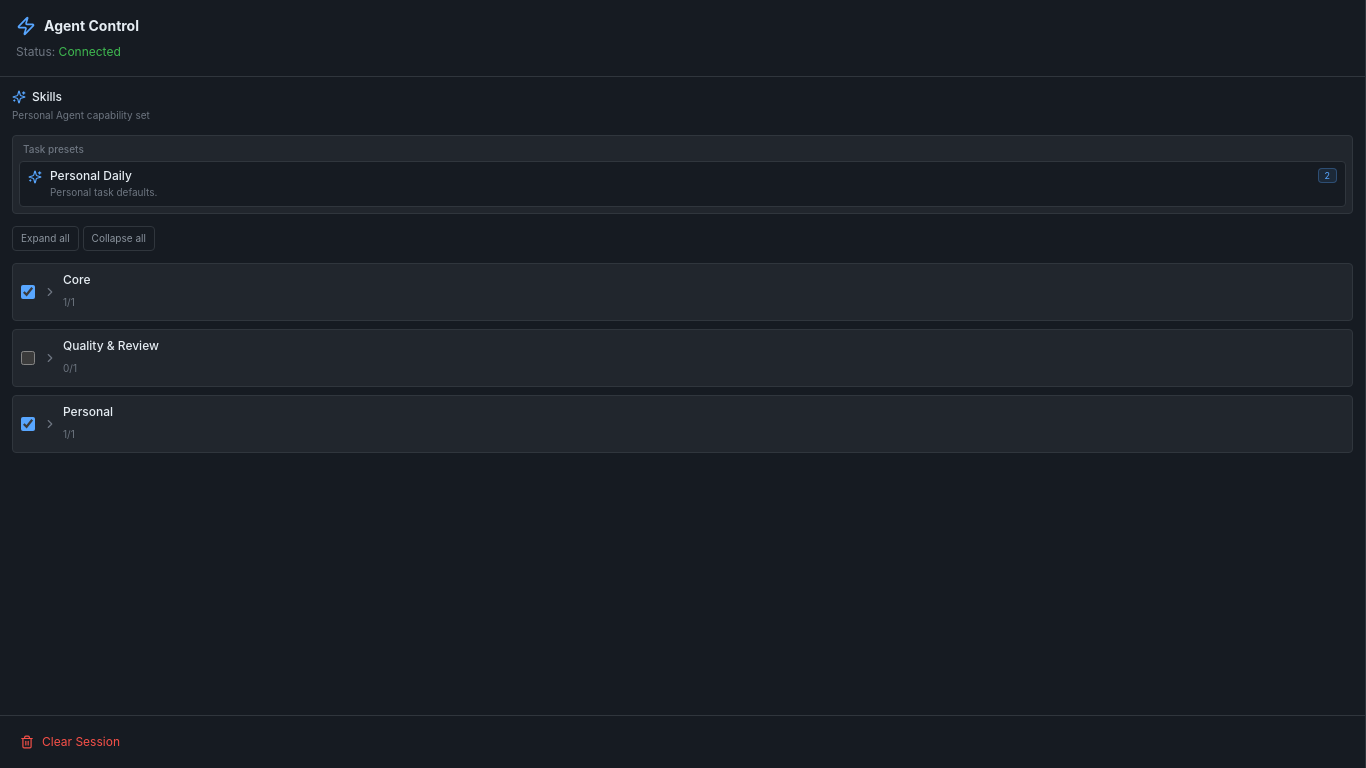
Test: Sidebar › expands and collapses a skill category
Expected: the text "using-superpowers" is not shown
Step 1. Click the button with aria-label "Expand Core" → click(50, 292), box [43, 272, 1344, 312]
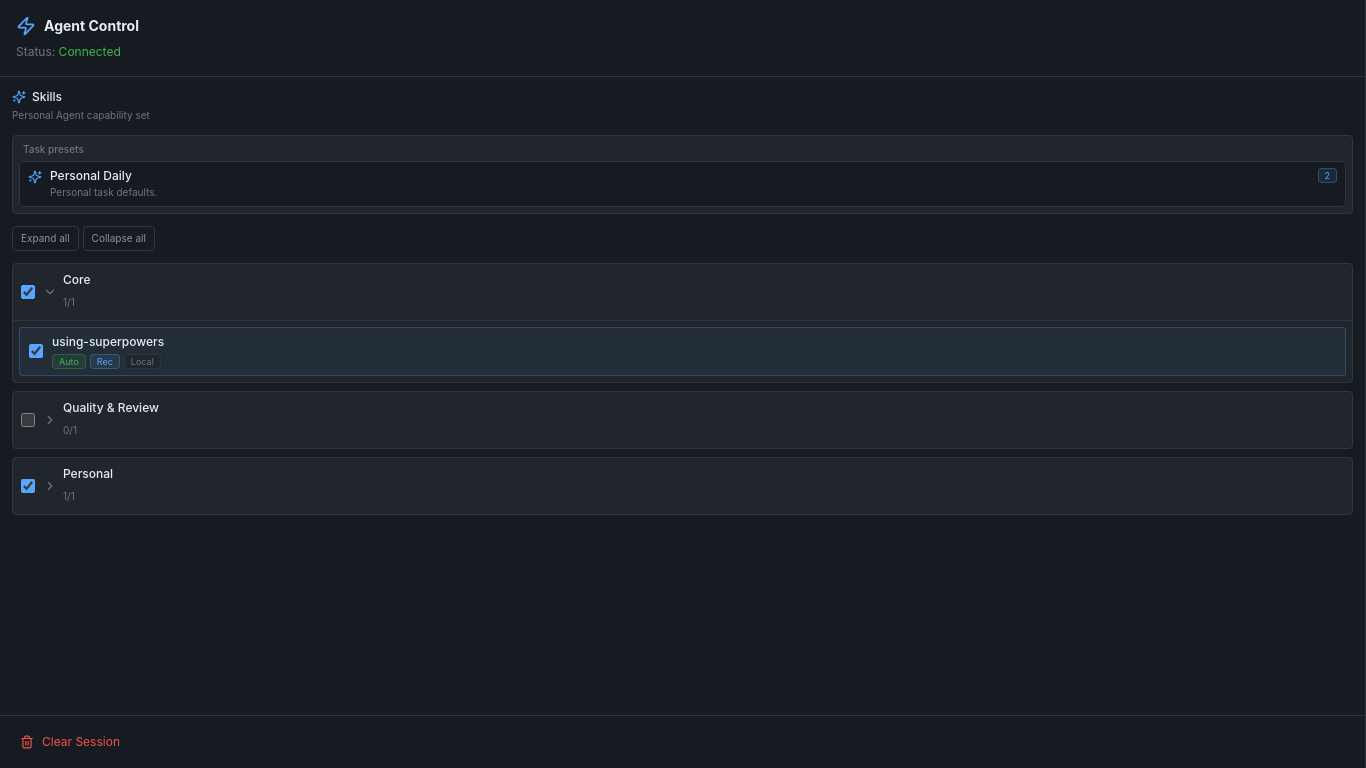
Expected: the text "using-superpowers" is shown, [52, 334, 164, 348]
Step 2. Click the button with aria-label "Collapse Core" → click(50, 292), box [43, 272, 1344, 312]
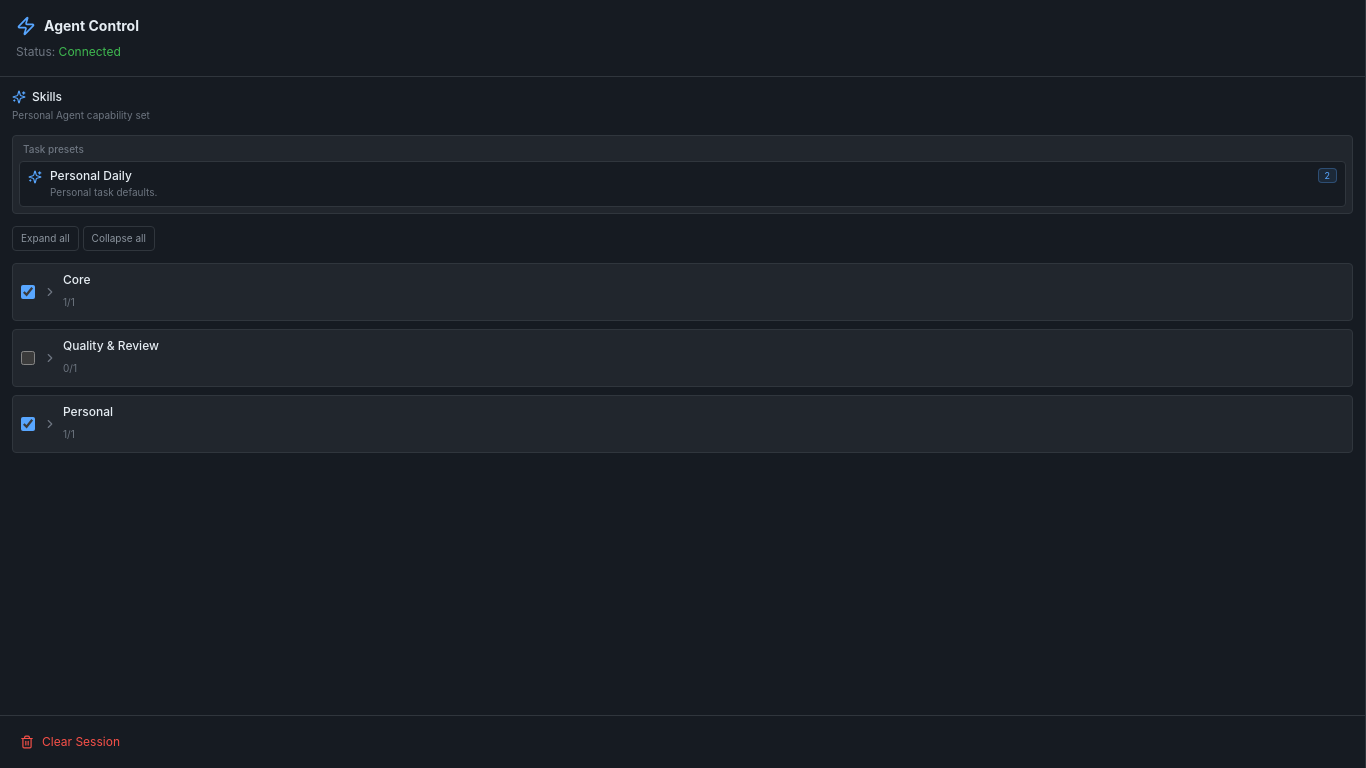
Expected: the text "using-superpowers" is gone
